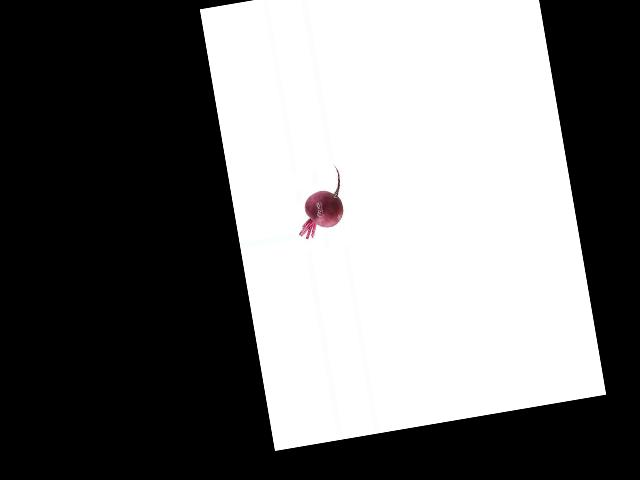beet: (289, 164, 348, 240)
